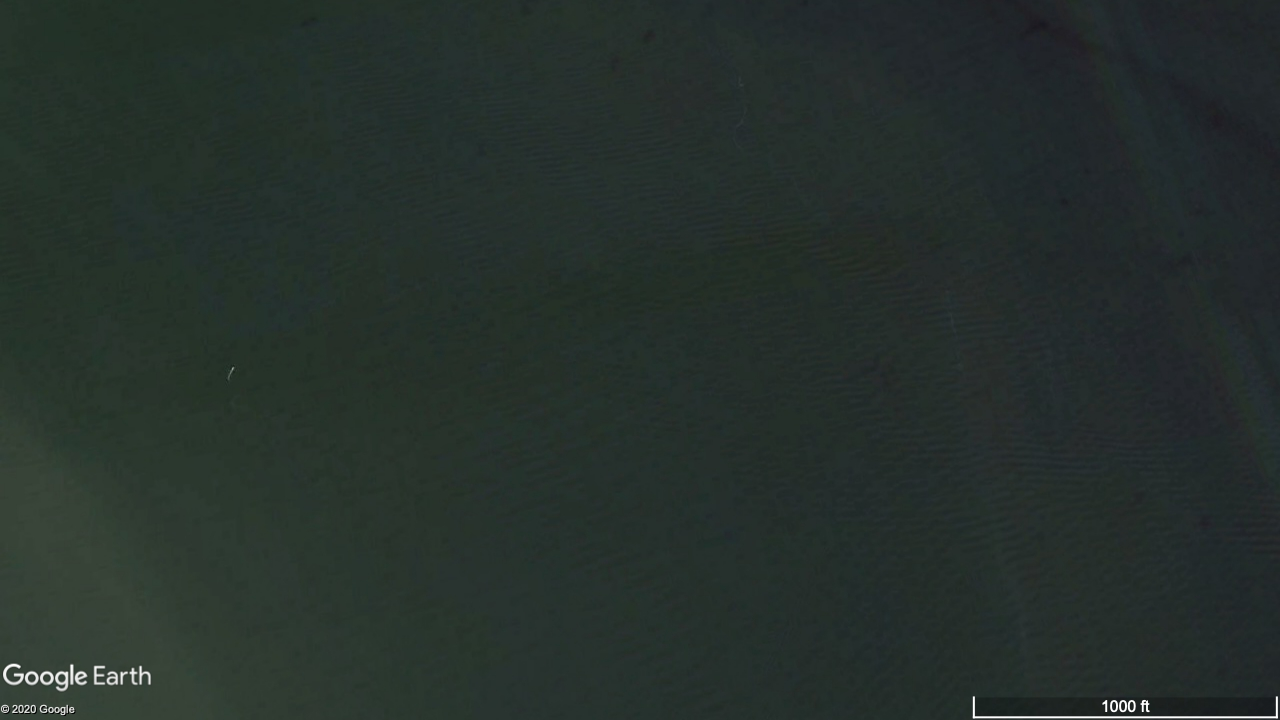satboat: (231, 366, 235, 371)
